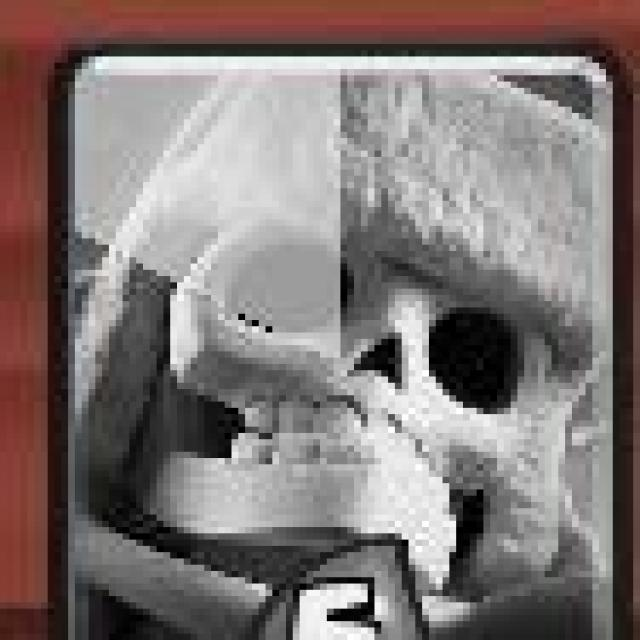Giant_Skeleton: (57, 37, 620, 640)
